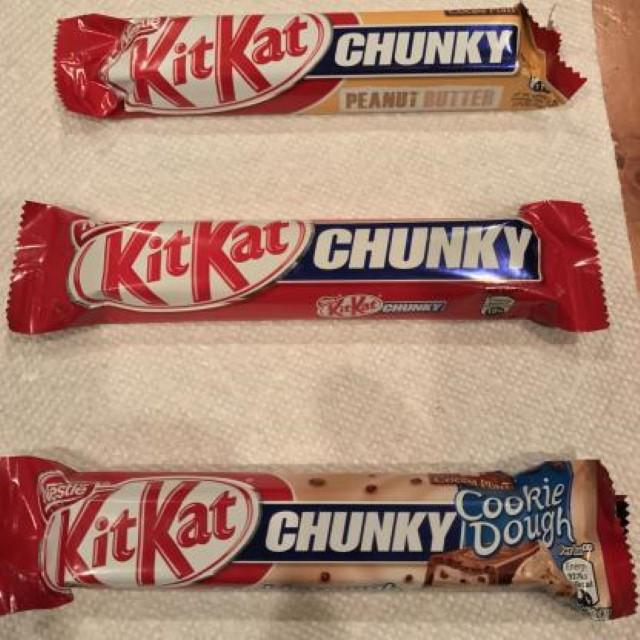kitkat_chocolate: (18, 444, 640, 611), (11, 178, 602, 335), (33, 2, 592, 110)
